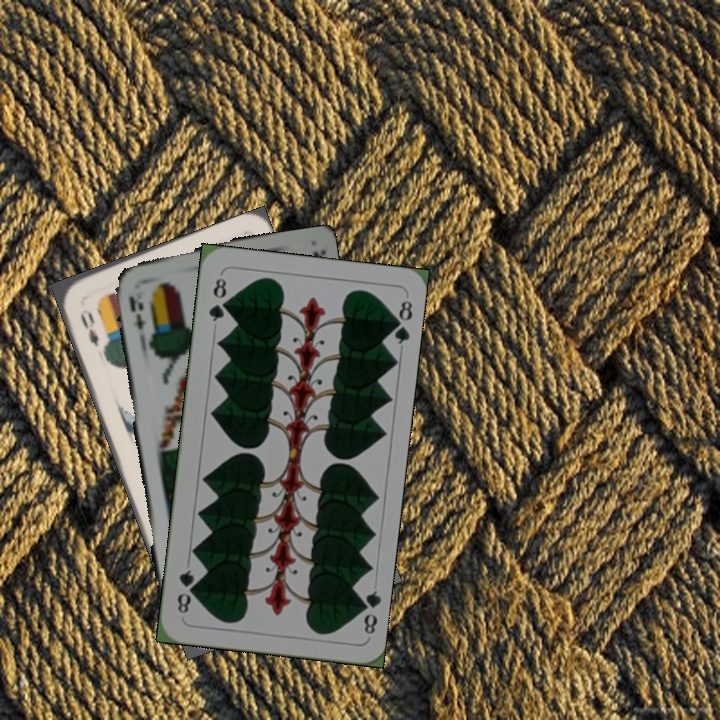EK: (124, 292, 150, 333)
EO: (76, 305, 102, 350)
G8: (353, 586, 383, 637), (204, 274, 230, 325)
